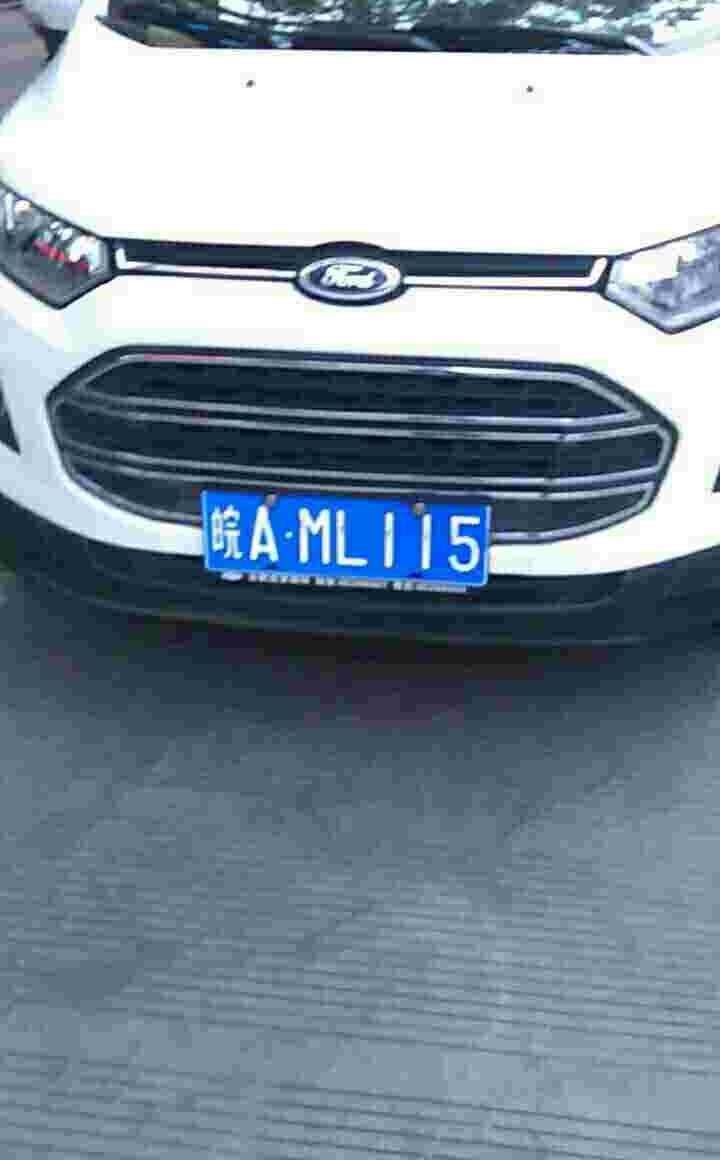license_plate: (202, 491, 496, 569)
